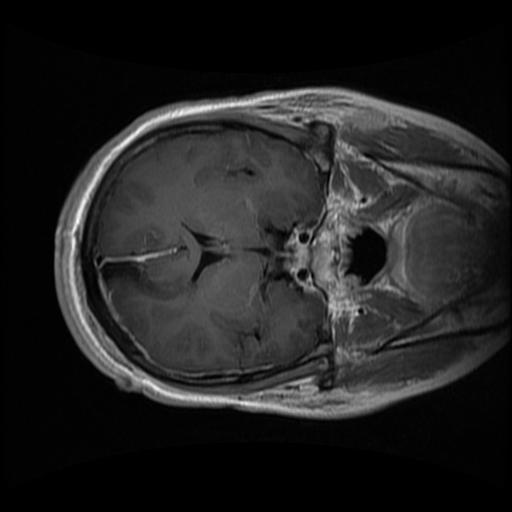glioma: (100, 257, 175, 300)
